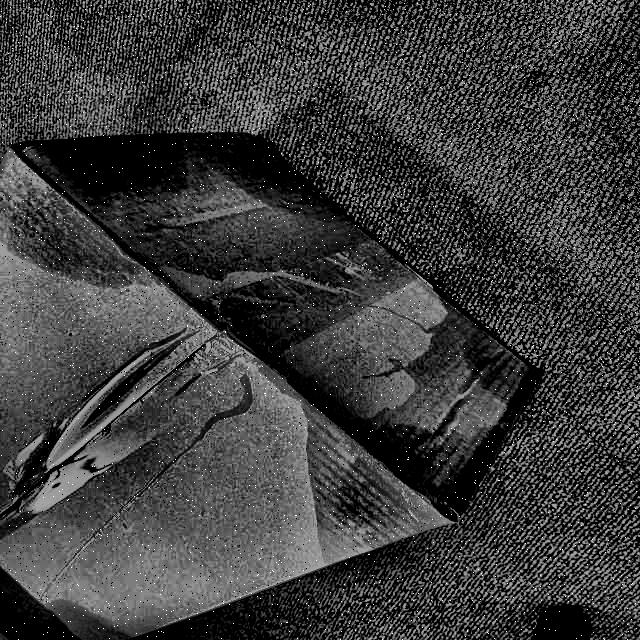box: (0, 122, 547, 640)
hole: (504, 600, 622, 640)
wet: (303, 324, 518, 554), (0, 141, 327, 281)
